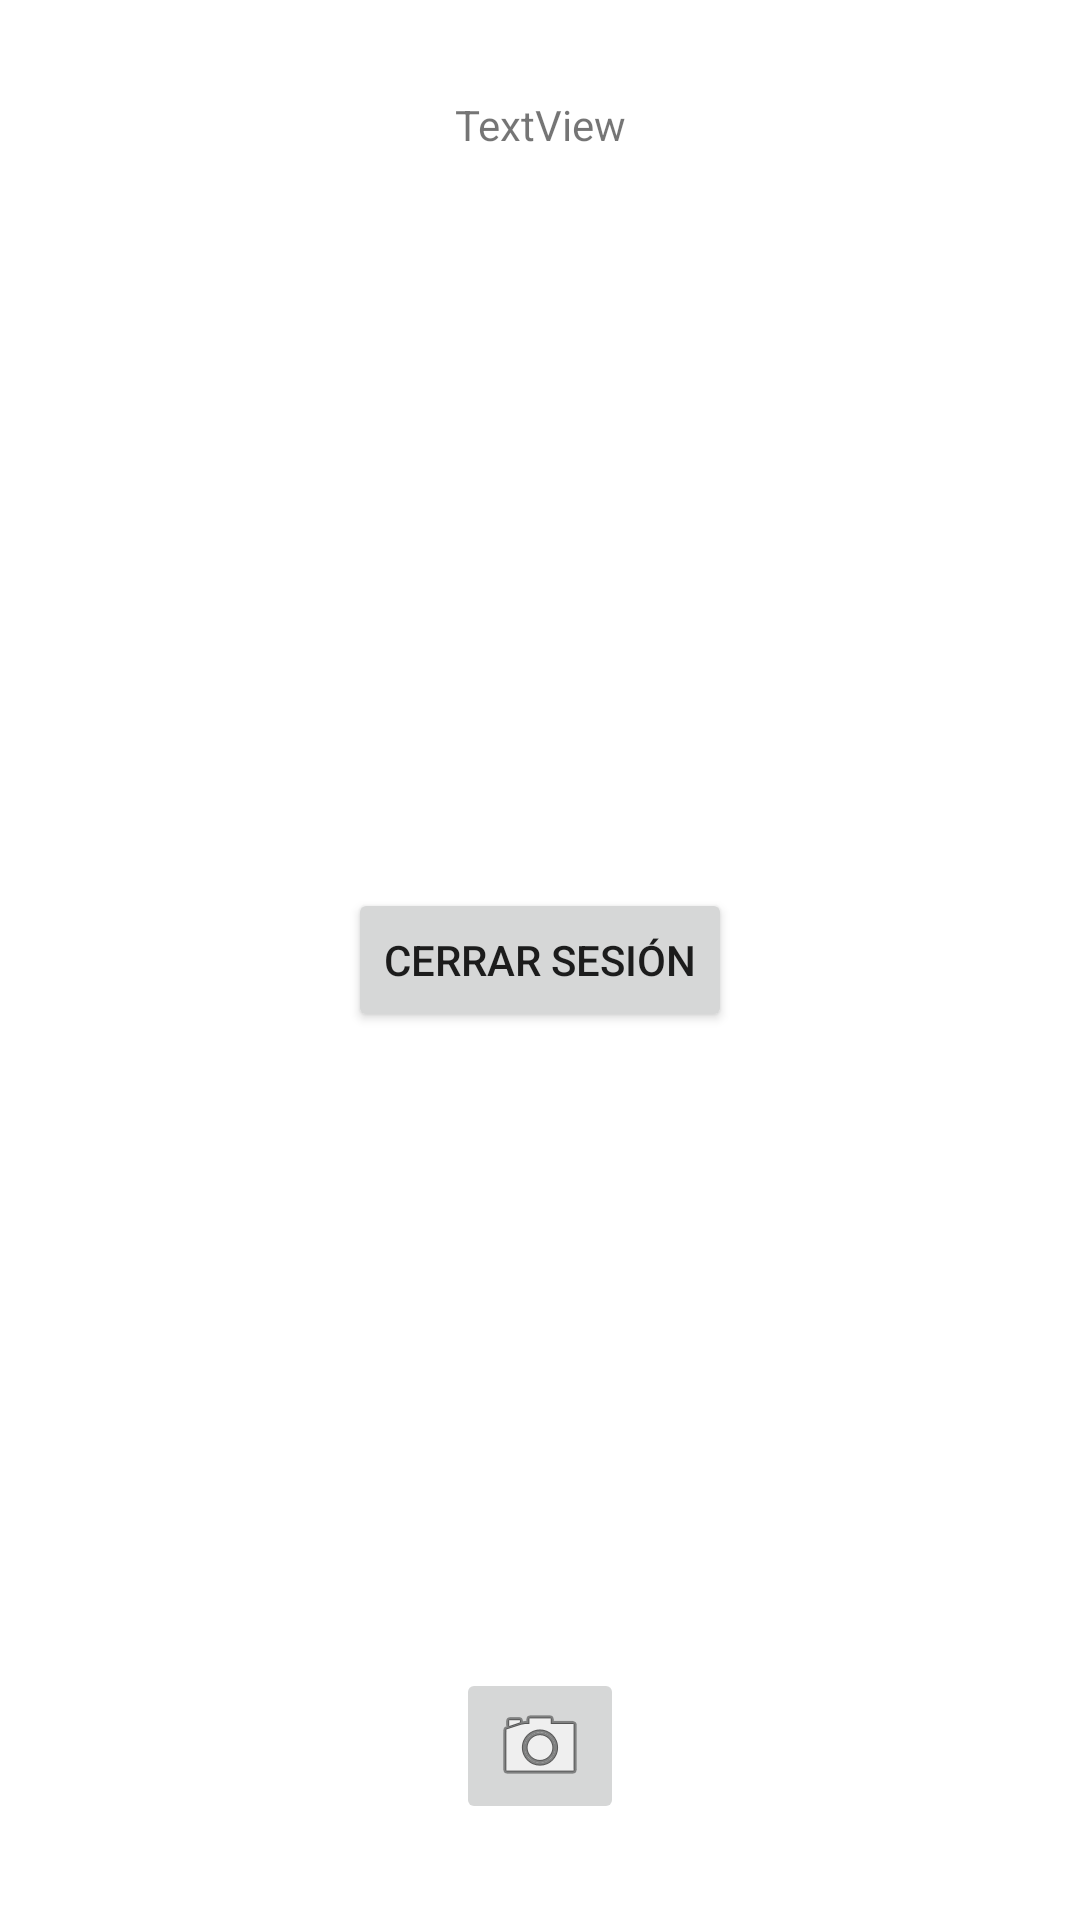

Named icons in this screenshot (1080px×1920px) and their centers, [x,y]:
camera: [540,1746]
